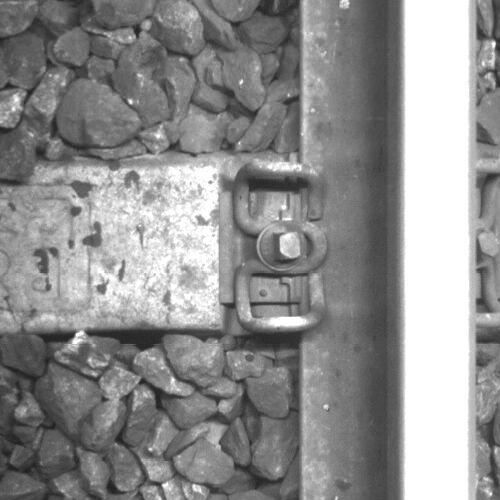rail: (401, 1, 476, 500)
tie_concr: (1, 163, 296, 328)
vossloh: (218, 162, 329, 333)
